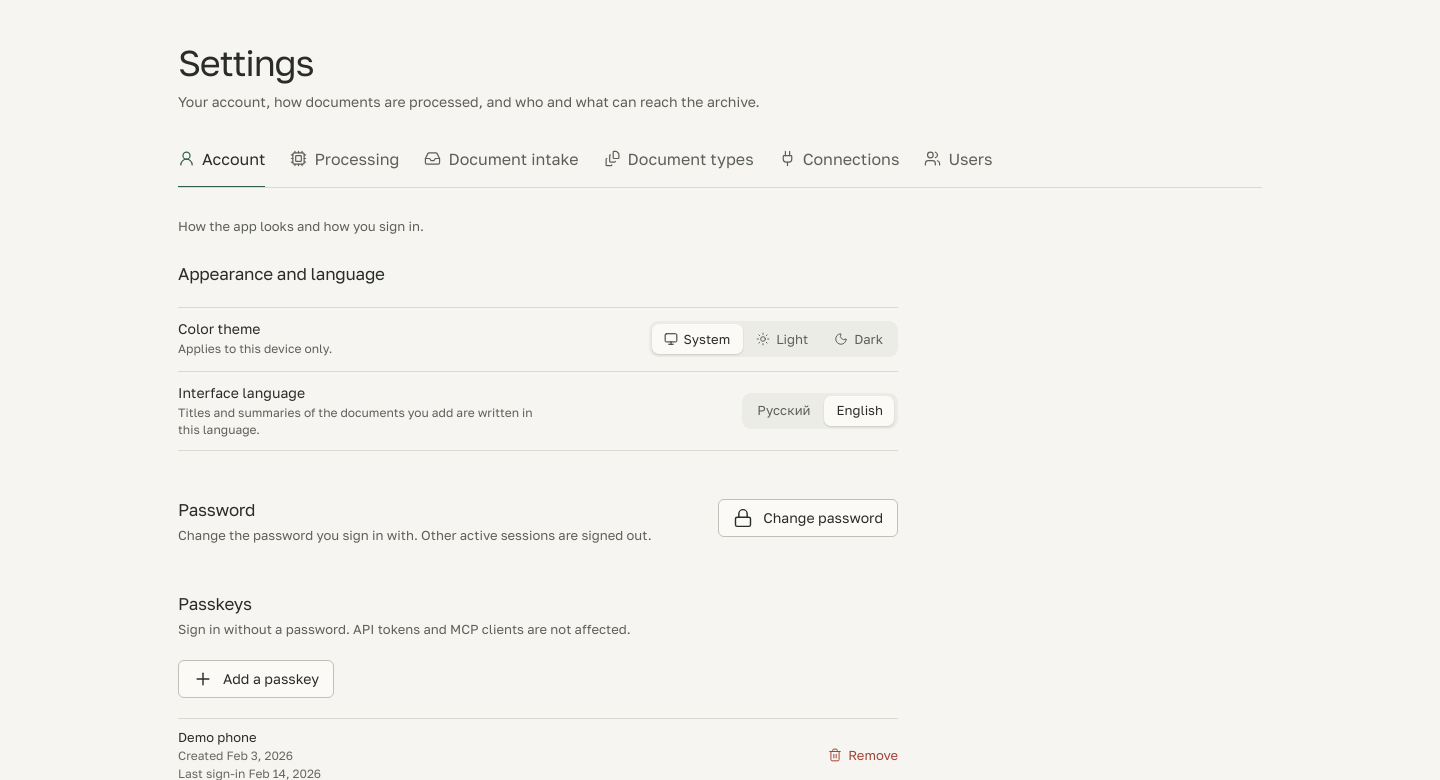
it: SettingsPage › groups settings into sections by task, one visible at a time
Click the tab "Connections".
click(839, 164)  # box [779,140,899,187]
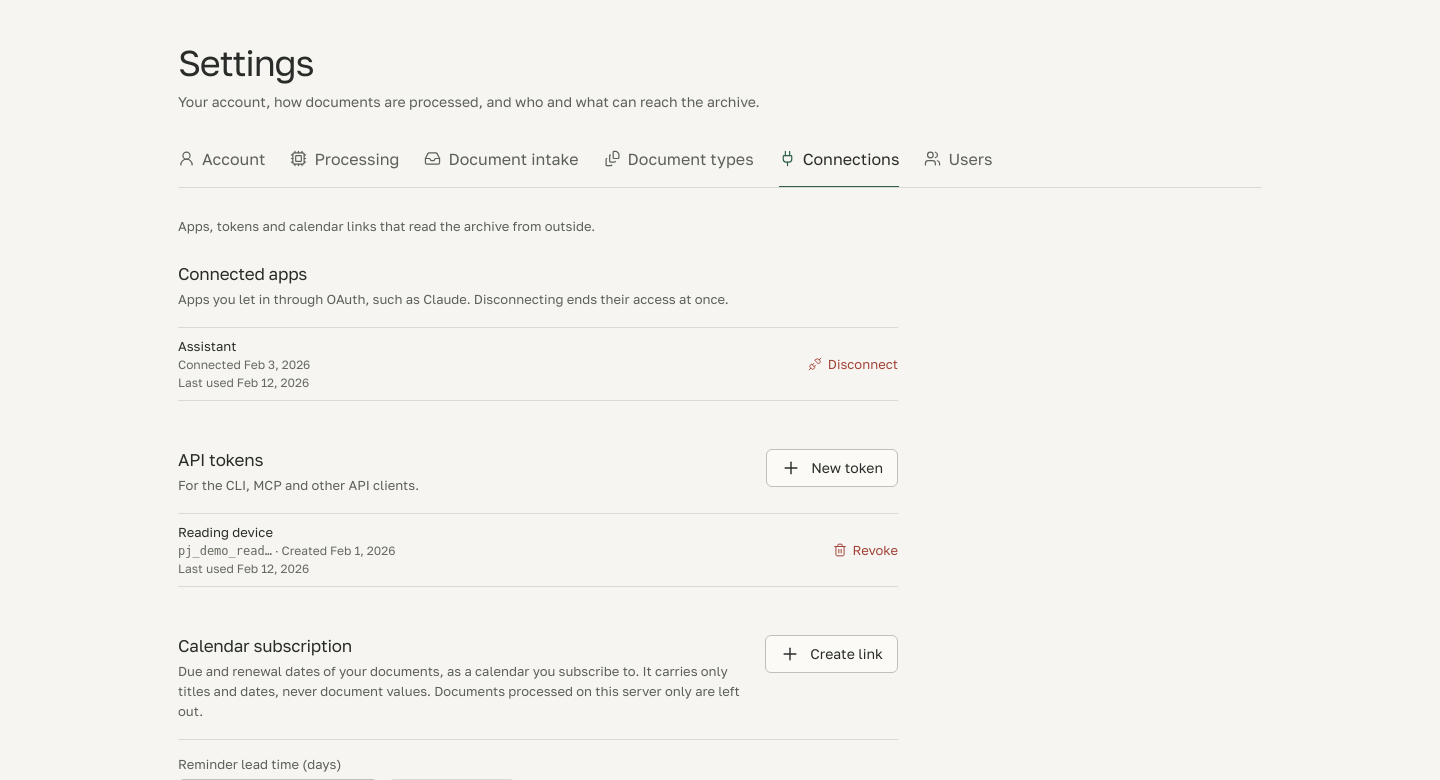
Check: the tab "Connections" is selected, box [779,140,899,187]
